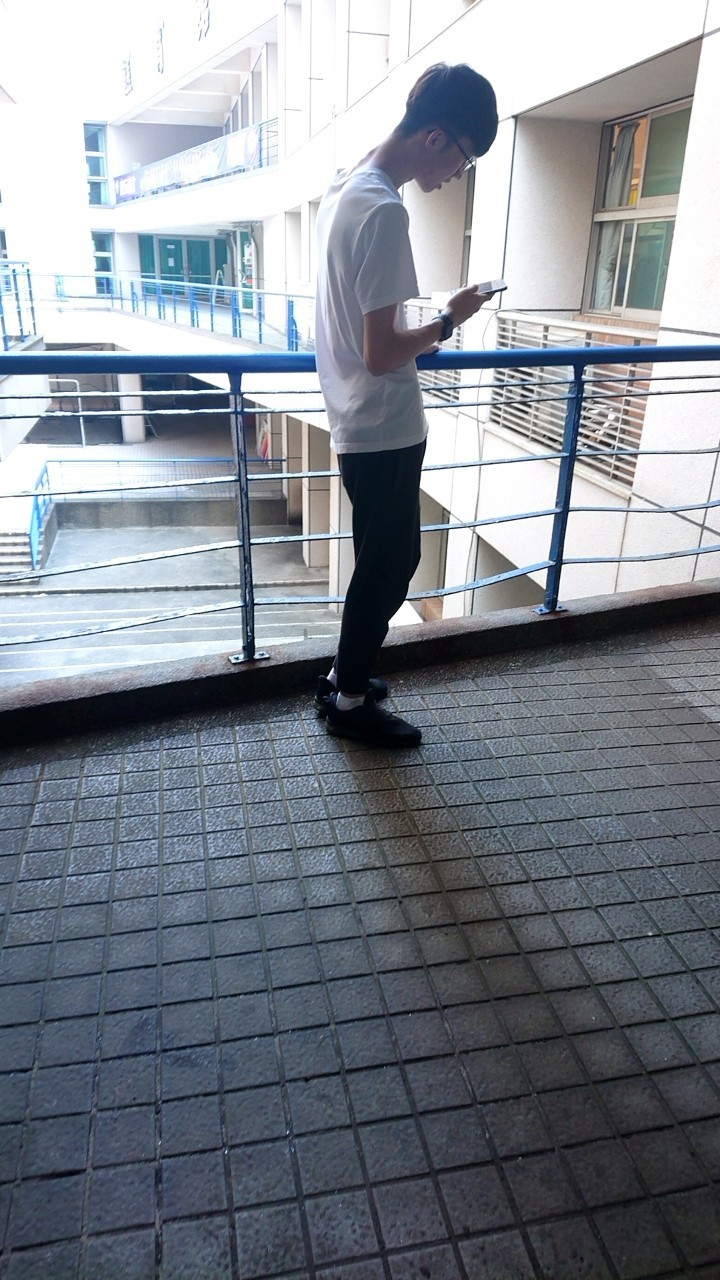people: (316, 61, 518, 751)
